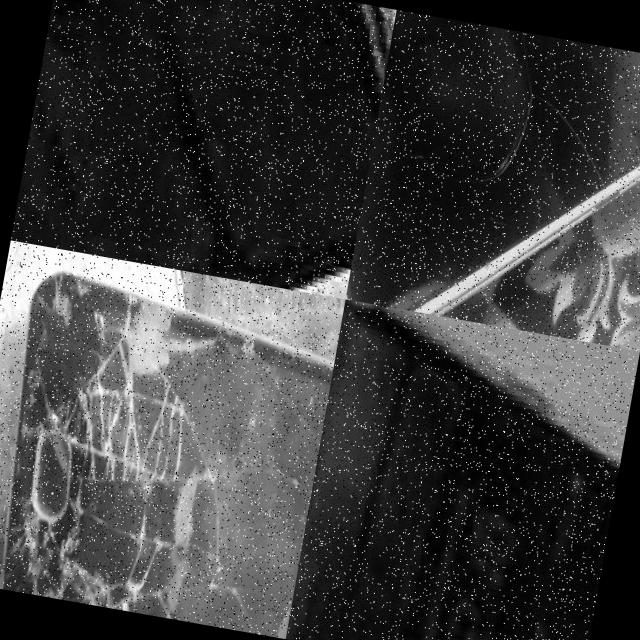screen crack: (0, 252, 342, 638), (363, 10, 640, 292)
